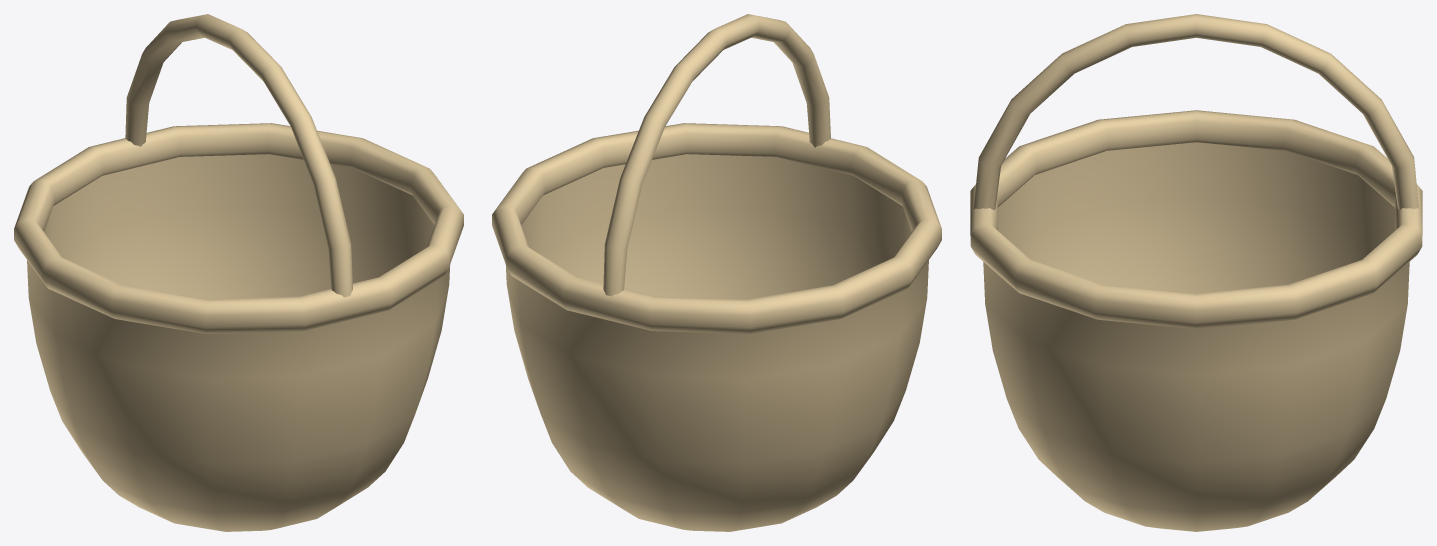
File: SM_Stylized_Basket.glb
3 renders of one model, left to right at view 1: azimuth 30°, elevation 25°; view 2: azimuth 150°, elevation 25°; view 3: azimuth 270°, elevation 25°, orthographic. The views are drawn at different scales.
Visible parts, largest first — view 1: SM_Stylized_Basket; view 2: SM_Stylized_Basket; view 3: SM_Stylized_Basket.
Part boxes in pixels (bbox=[...]): SM_Stylized_Basket: bbox=[14, 14, 463, 531]; SM_Stylized_Basket: bbox=[492, 14, 941, 531]; SM_Stylized_Basket: bbox=[970, 14, 1422, 531].
Bounding box in the file's own units: 0.3082 × 0.3522 × 0.3005.
